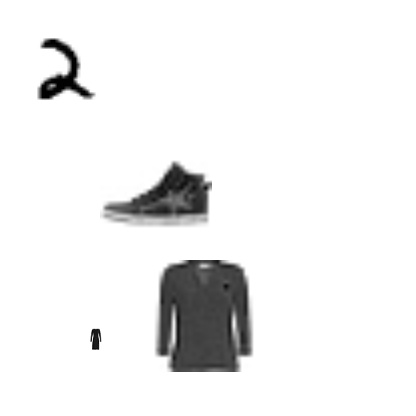2: (20, 30, 104, 114)
Dress: (85, 328, 107, 350)
Pullover: (207, 310, 221, 324)
Shirt: (148, 260, 260, 372)
Sneaker: (100, 138, 212, 250)
